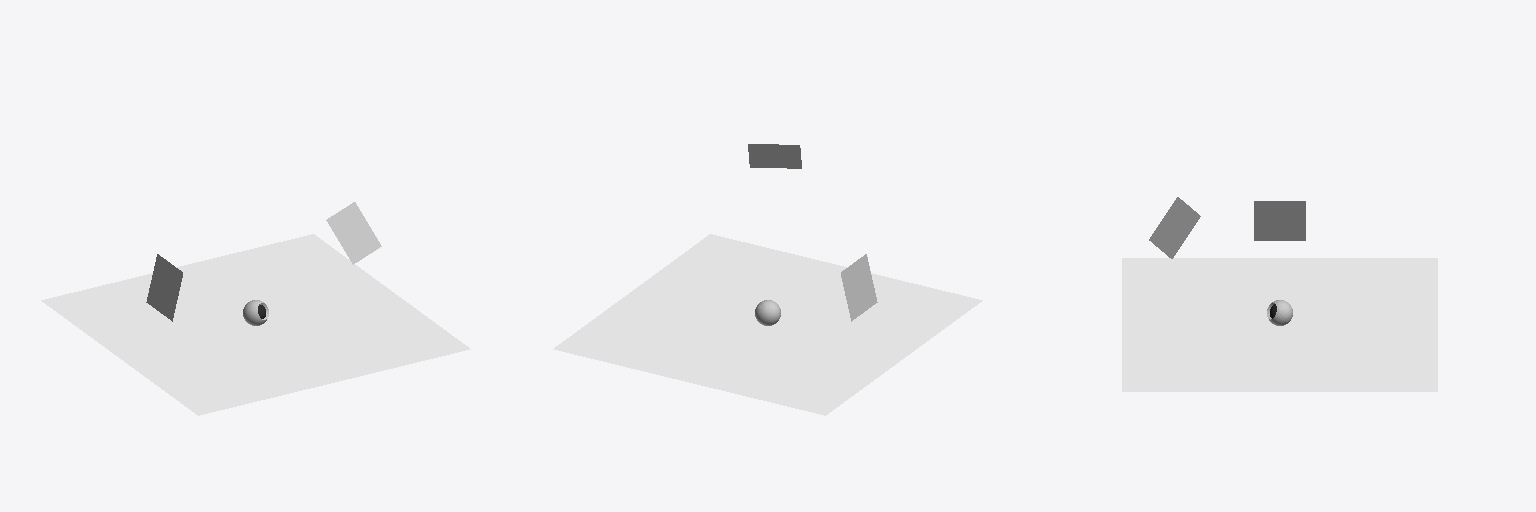
Rendered from matball_gold02_arealight.obj.
3 views of the same model, side by side, from view 1: azimuth 30°, elevation 25°; view 2: azimuth 150°, elevation 25°; view 3: azimuth 270°, elevation 25° (orthographic).
Visible parts, largest first — view 1: floor, arealight01, arealight02; view 2: floor, arealight02, arealight01, matball; view 3: floor, arealight02, arealight01.
Boxes of the visible parts, x1=… form: floor: x1=41, y1=234, x2=469, y2=415; arealight01: x1=326, y1=202, x2=381, y2=264; arealight02: x1=146, y1=254, x2=182, y2=321; floor: x1=554, y1=234, x2=982, y2=415; arealight02: x1=841, y1=254, x2=877, y2=321; arealight01: x1=748, y1=144, x2=801, y2=168; matball: x1=755, y1=300, x2=780, y2=325; floor: x1=1122, y1=258, x2=1437, y2=391; arealight02: x1=1254, y1=201, x2=1305, y2=240; arealight01: x1=1149, y1=197, x2=1200, y2=258.
Size of the model in its own units: 24 by 11.57 by 24.